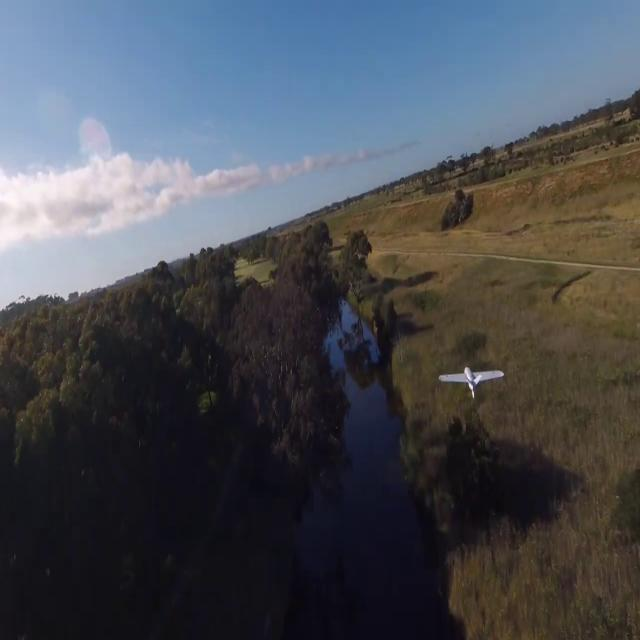iha: (470, 365, 472, 396)
